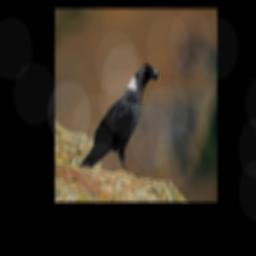Crow: (78, 62, 160, 178)
